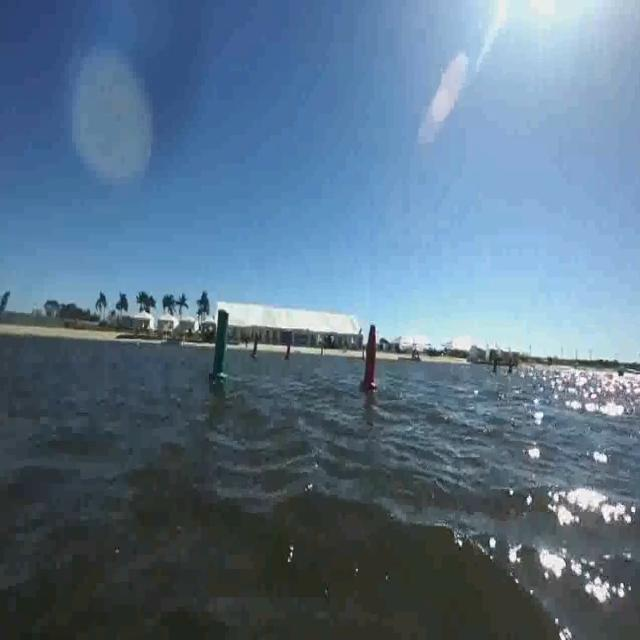green-column-buoy: (208, 308, 233, 383), (251, 336, 260, 360)
red-column-buoy: (359, 322, 379, 392), (284, 339, 293, 361)
